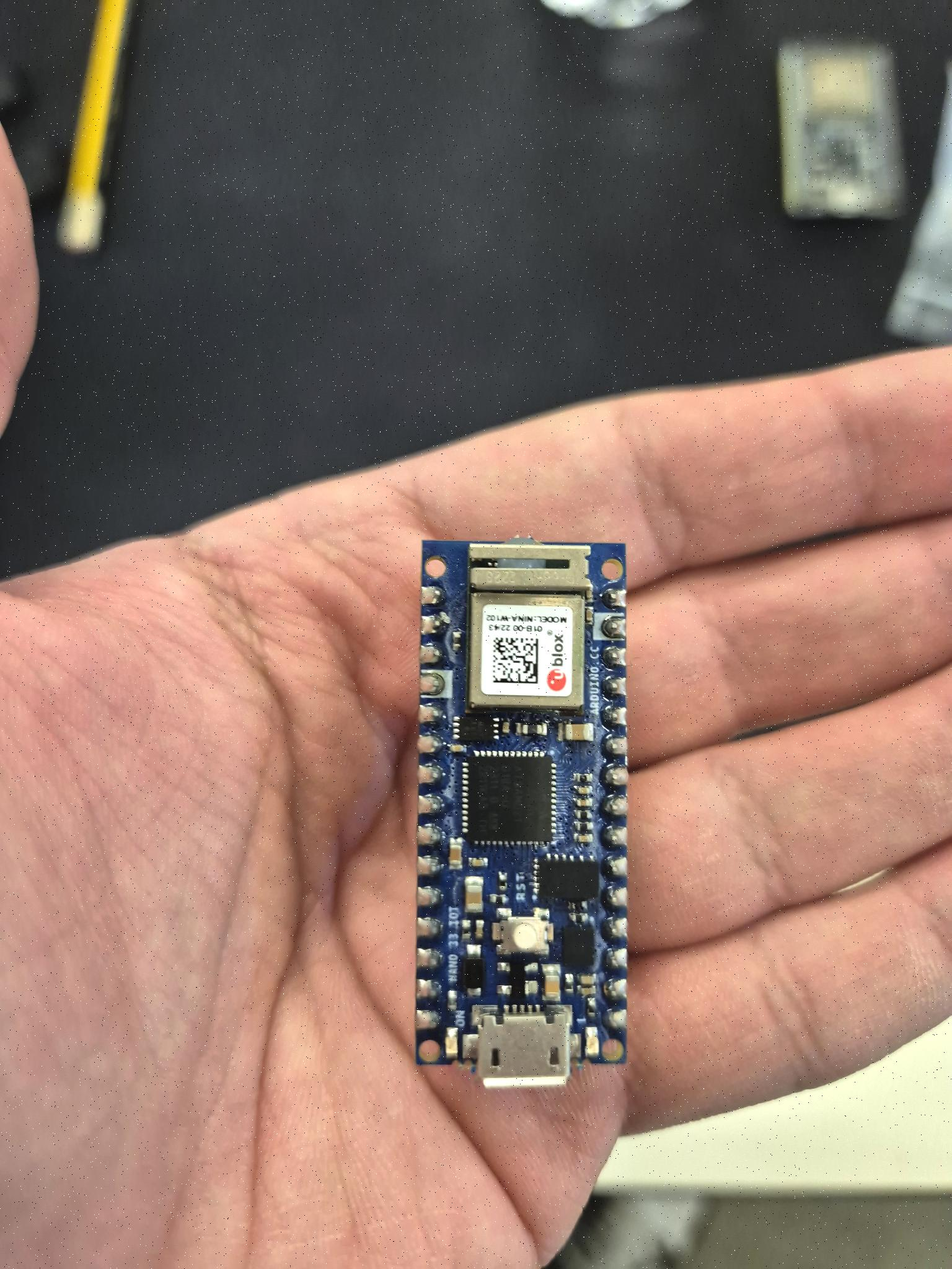arduino-nano-iot-33: (420, 539, 628, 1064)
